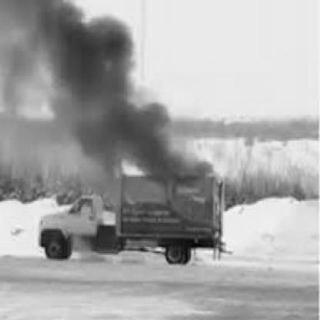Fire: (102, 131, 154, 187)
